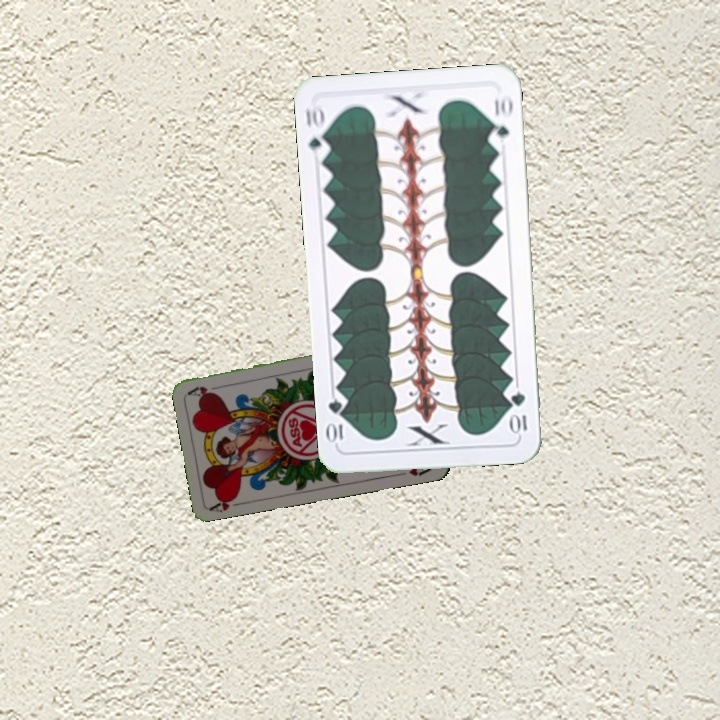G10: (301, 101, 331, 161), (507, 387, 530, 437)
HA: (207, 491, 247, 515)
